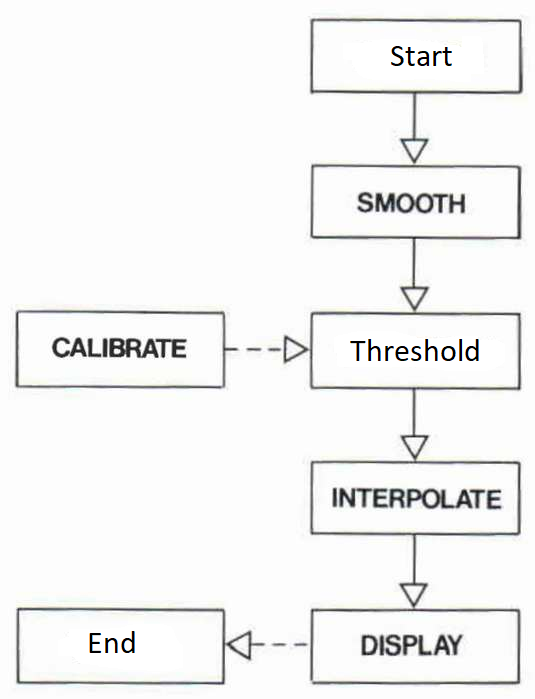arrow: (224, 335, 310, 365), (222, 630, 310, 658), (400, 237, 430, 310), (400, 533, 429, 608), (401, 93, 429, 163), (402, 390, 428, 463)
process: (13, 307, 227, 392), (13, 603, 222, 689), (309, 310, 525, 392), (308, 457, 524, 539), (307, 607, 524, 687), (308, 162, 524, 242), (308, 16, 526, 95)
text: (328, 485, 504, 511), (49, 334, 188, 363), (350, 335, 484, 363), (357, 632, 465, 660), (354, 190, 469, 216), (388, 43, 454, 68), (84, 630, 138, 656)
